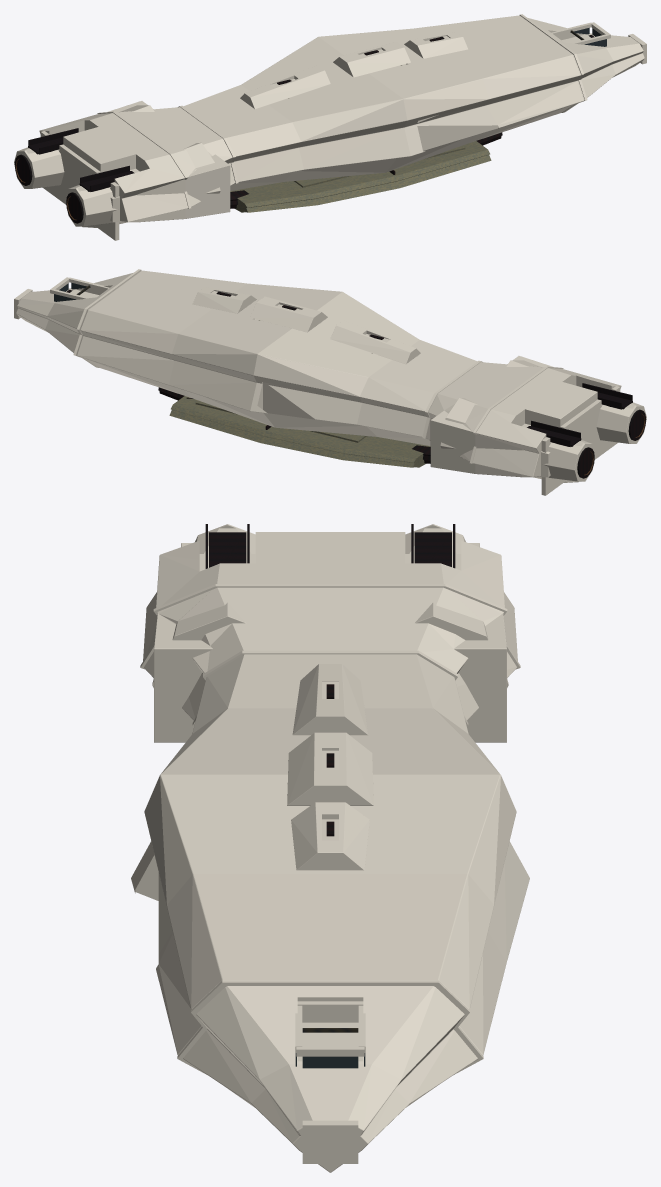
The model's file is massline_express_liner_v1_lod0.glb.
The picture shows the model from 3 angles, top to bottom: view 1: azimuth 30°, elevation 25°; view 2: azimuth 150°, elevation 25°; view 3: azimuth 270°, elevation 25°; orthographic projection. The views are drawn at different scales.
Visible parts, largest first — view 1: LOD0_Hull, LOD0_Radiator, LOD0_Mechanical, LOD0_Thruster; view 2: LOD0_Hull, LOD0_Radiator, LOD0_Mechanical, LOD0_Thruster; view 3: LOD0_Hull, LOD0_Thruster.
Boxes of the visible parts, bbox=[...] form: LOD0_Hull: bbox=[14, 14, 646, 240]; LOD0_Radiator: bbox=[230, 65, 491, 212]; LOD0_Mechanical: bbox=[14, 35, 594, 223]; LOD0_Thruster: bbox=[28, 128, 134, 191]; LOD0_Hull: bbox=[14, 269, 646, 495]; LOD0_Radiator: bbox=[169, 320, 430, 467]; LOD0_Mechanical: bbox=[66, 290, 646, 478]; LOD0_Thruster: bbox=[527, 383, 632, 446]; LOD0_Hull: bbox=[131, 524, 529, 1172]; LOD0_Thruster: bbox=[205, 524, 455, 568].
Size of what is drawn, in the model's own units: 35.27 by 7.58 by 10.29.
Materials: 8 (7 with a texture image).
